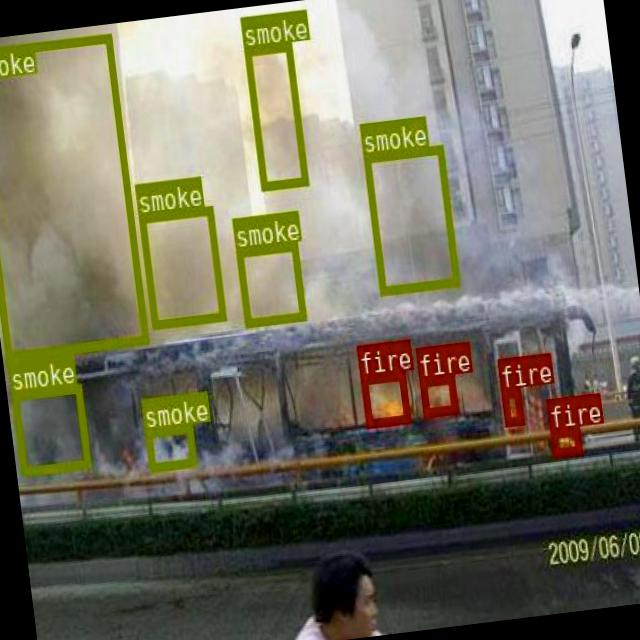fire: (358, 371, 409, 426), (418, 372, 456, 416), (548, 424, 580, 456), (500, 387, 522, 425)
smoke: (0, 32, 148, 358), (362, 143, 458, 294), (138, 204, 225, 328), (242, 39, 306, 190), (10, 382, 89, 474), (233, 240, 306, 325), (142, 422, 195, 470)
